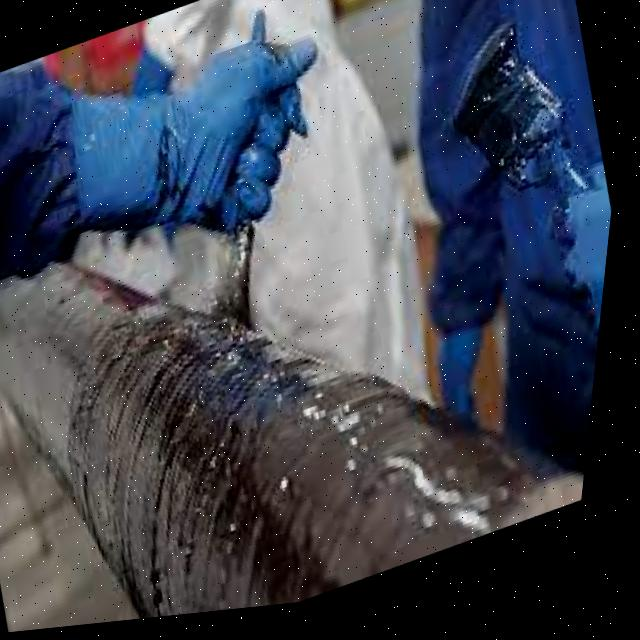corrosion: (109, 117, 378, 449)
